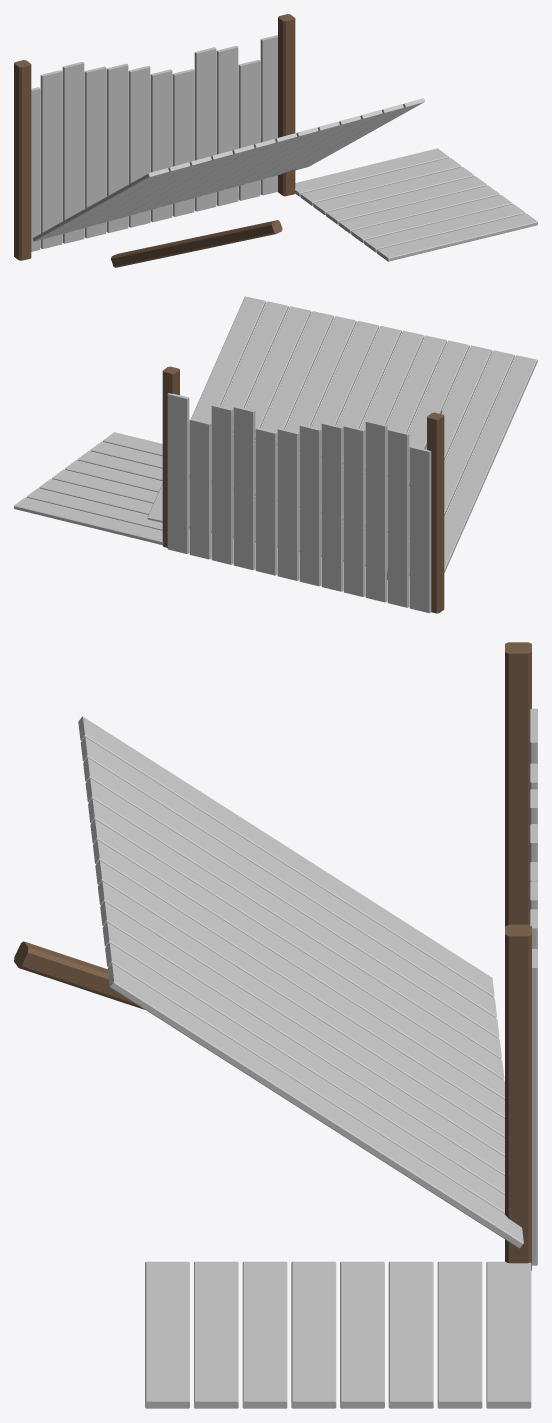
File: collapsed_shed.glb
The picture shows the model from 3 angles, top to bottom: view 1: azimuth 30°, elevation 25°; view 2: azimuth 150°, elevation 25°; view 3: azimuth 270°, elevation 25°; orthographic projection. The views are drawn at different scales.
Parts seen in each view (by area): view 1: collapsed_shed; view 2: collapsed_shed; view 3: collapsed_shed.
Boxes of the visible parts, x1,y1,x2,y2 form: collapsed_shed: (14,14,537,267); collapsed_shed: (14,296,537,613); collapsed_shed: (14,642,537,1408).
Bounding box in the file's own units: 4.82 × 2.18 × 2.69.
